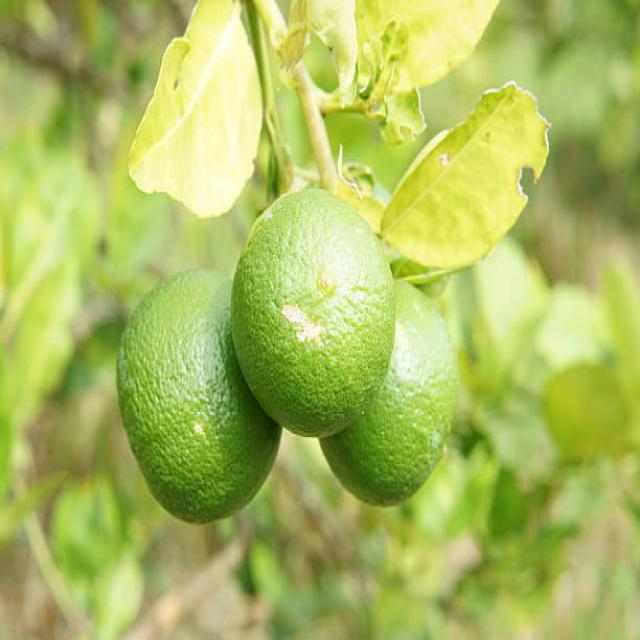Unripe: (229, 185, 395, 438)
